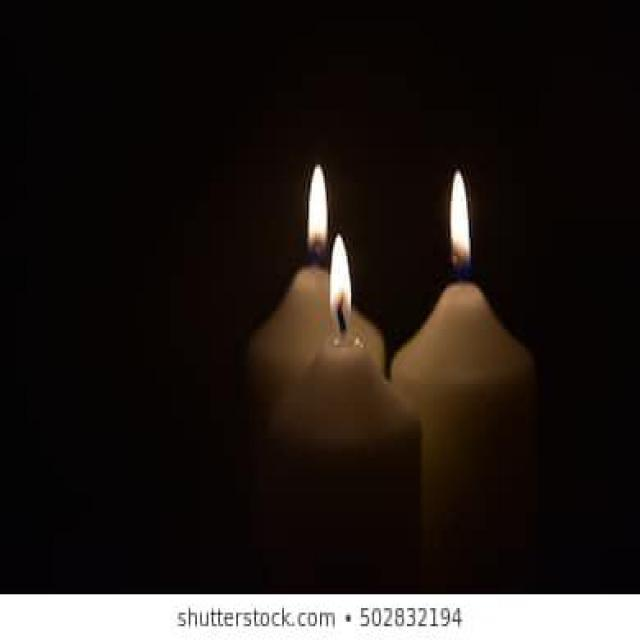Fire: (307, 164, 330, 260), (330, 235, 352, 334), (450, 172, 470, 268)
